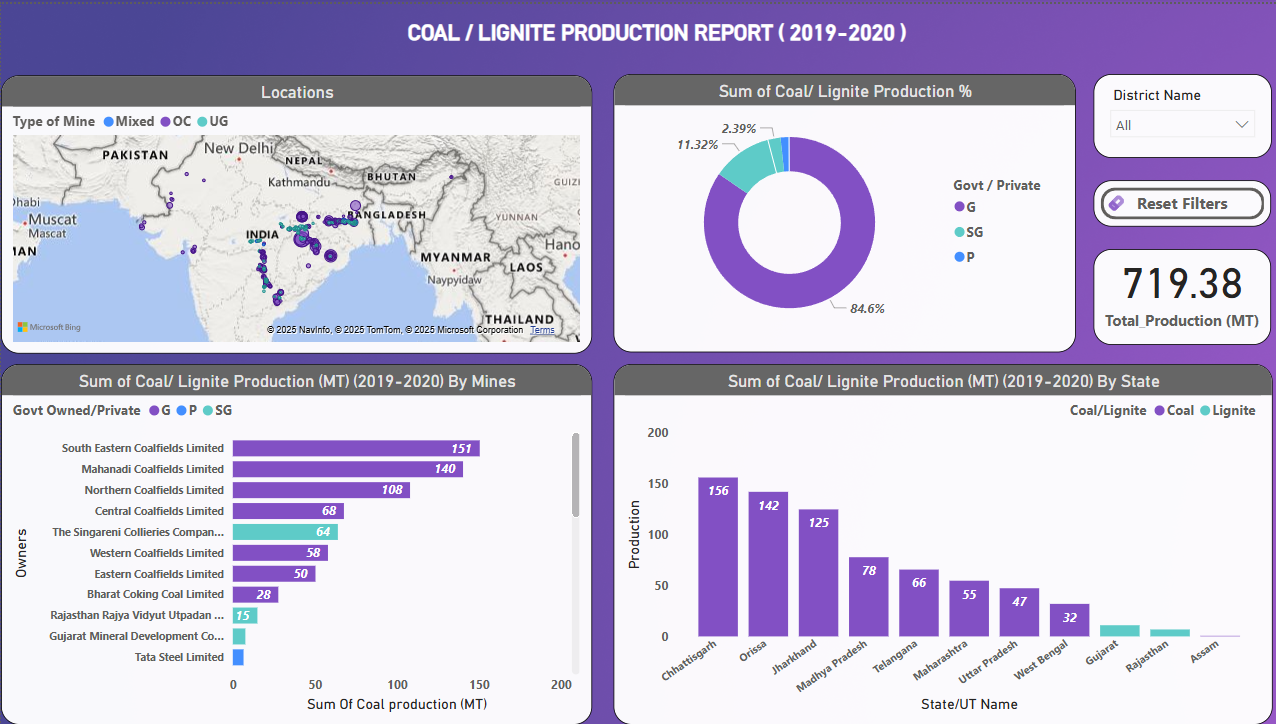

The page's visual inventory and layout, read from the dashboard file:
{"tool":"powerbi","page":{"name":"Page 1","canvas":[1280,720],"ordinal":0},"visuals":[{"type":"barChart","title":"Sum of Coal/ Lignite Production (MT) (2019-2020) By Mines","fields":{"Category":["Mines Datasheet.Coal Mine Owner Full Name"],"Y":["Mines Datasheet.Coal/ Lignite Production (MT) (2019-2020)"],"Series":["Mines Datasheet.Govt Owned/Private"]},"box":[0,359.5,590.9,360.7],"z":0},{"type":"card","fields":{"Values":["Mines Datasheet.Total_Production"]},"box":[1092.2,245.1,177.9,95.8],"z":1000},{"type":"columnChart","title":"Sum of Coal/ Lignite Production (MT) (2019-2020) By State","fields":{"Category":["Mines Datasheet.State/UT Name"],"Y":["Mines Datasheet.Coal/ Lignite Production (MT) (2019-2020)"],"Series":["Mines Datasheet.Coal/Lignite"]},"box":[612,359.5,659.3,360.7],"z":2000},{"type":"donutChart","title":"Sum of Coal/ Lignite Production %","fields":{"Category":["Mines Datasheet.Govt Owned/Private"],"Series":["Mines Datasheet.Coal/Lignite"],"Y":["Mines Datasheet.Coal/ Lignite Production (MT) (2019-2020)"]},"box":[612,70,462,278],"z":3000},{"type":"map","title":"Locations","fields":{"Y":["Mines Datasheet.Latitude "],"X":["Mines Datasheet.Longitude "],"Size":["Mines Datasheet.Coal/ Lignite Production (MT) (2019-2020)"],"Series":["Mines Datasheet.Type of Mine (OC/UG/Mixed)"]},"box":[0,70.9,590.9,278.6],"z":4000},{"type":"slicer","fields":{"Values":["Mines Datasheet.District Name"]},"box":[1092,70,178,84],"z":5000},{"type":"actionButton","box":[1092.2,176.6,177.9,46],"z":6000},{"type":"textbox","box":[396.8,11.2,526.2,49.8],"z":7000}]}

Visuals, with their boxes in screenshot pixels (x1, y1, x2, y2), scaled from the page's 1280x720 canvas onto the 1276x724 screenshot:
"Sum of Coal/ Lignite Production (MT) (2019-2020) By Mines" barChart: <bbox>0, 361, 589, 723</bbox>
card - Mines Datasheet.Total_Production: <bbox>1089, 246, 1266, 343</bbox>
"Sum of Coal/ Lignite Production (MT) (2019-2020) By State" columnChart: <bbox>610, 361, 1267, 723</bbox>
"Sum of Coal/ Lignite Production %" donutChart: <bbox>610, 70, 1071, 350</bbox>
"Locations" map: <bbox>0, 71, 589, 351</bbox>
slicer - Mines Datasheet.District Name: <bbox>1089, 70, 1266, 155</bbox>
actionButton: <bbox>1089, 178, 1266, 224</bbox>
textbox: <bbox>396, 11, 920, 61</bbox>
